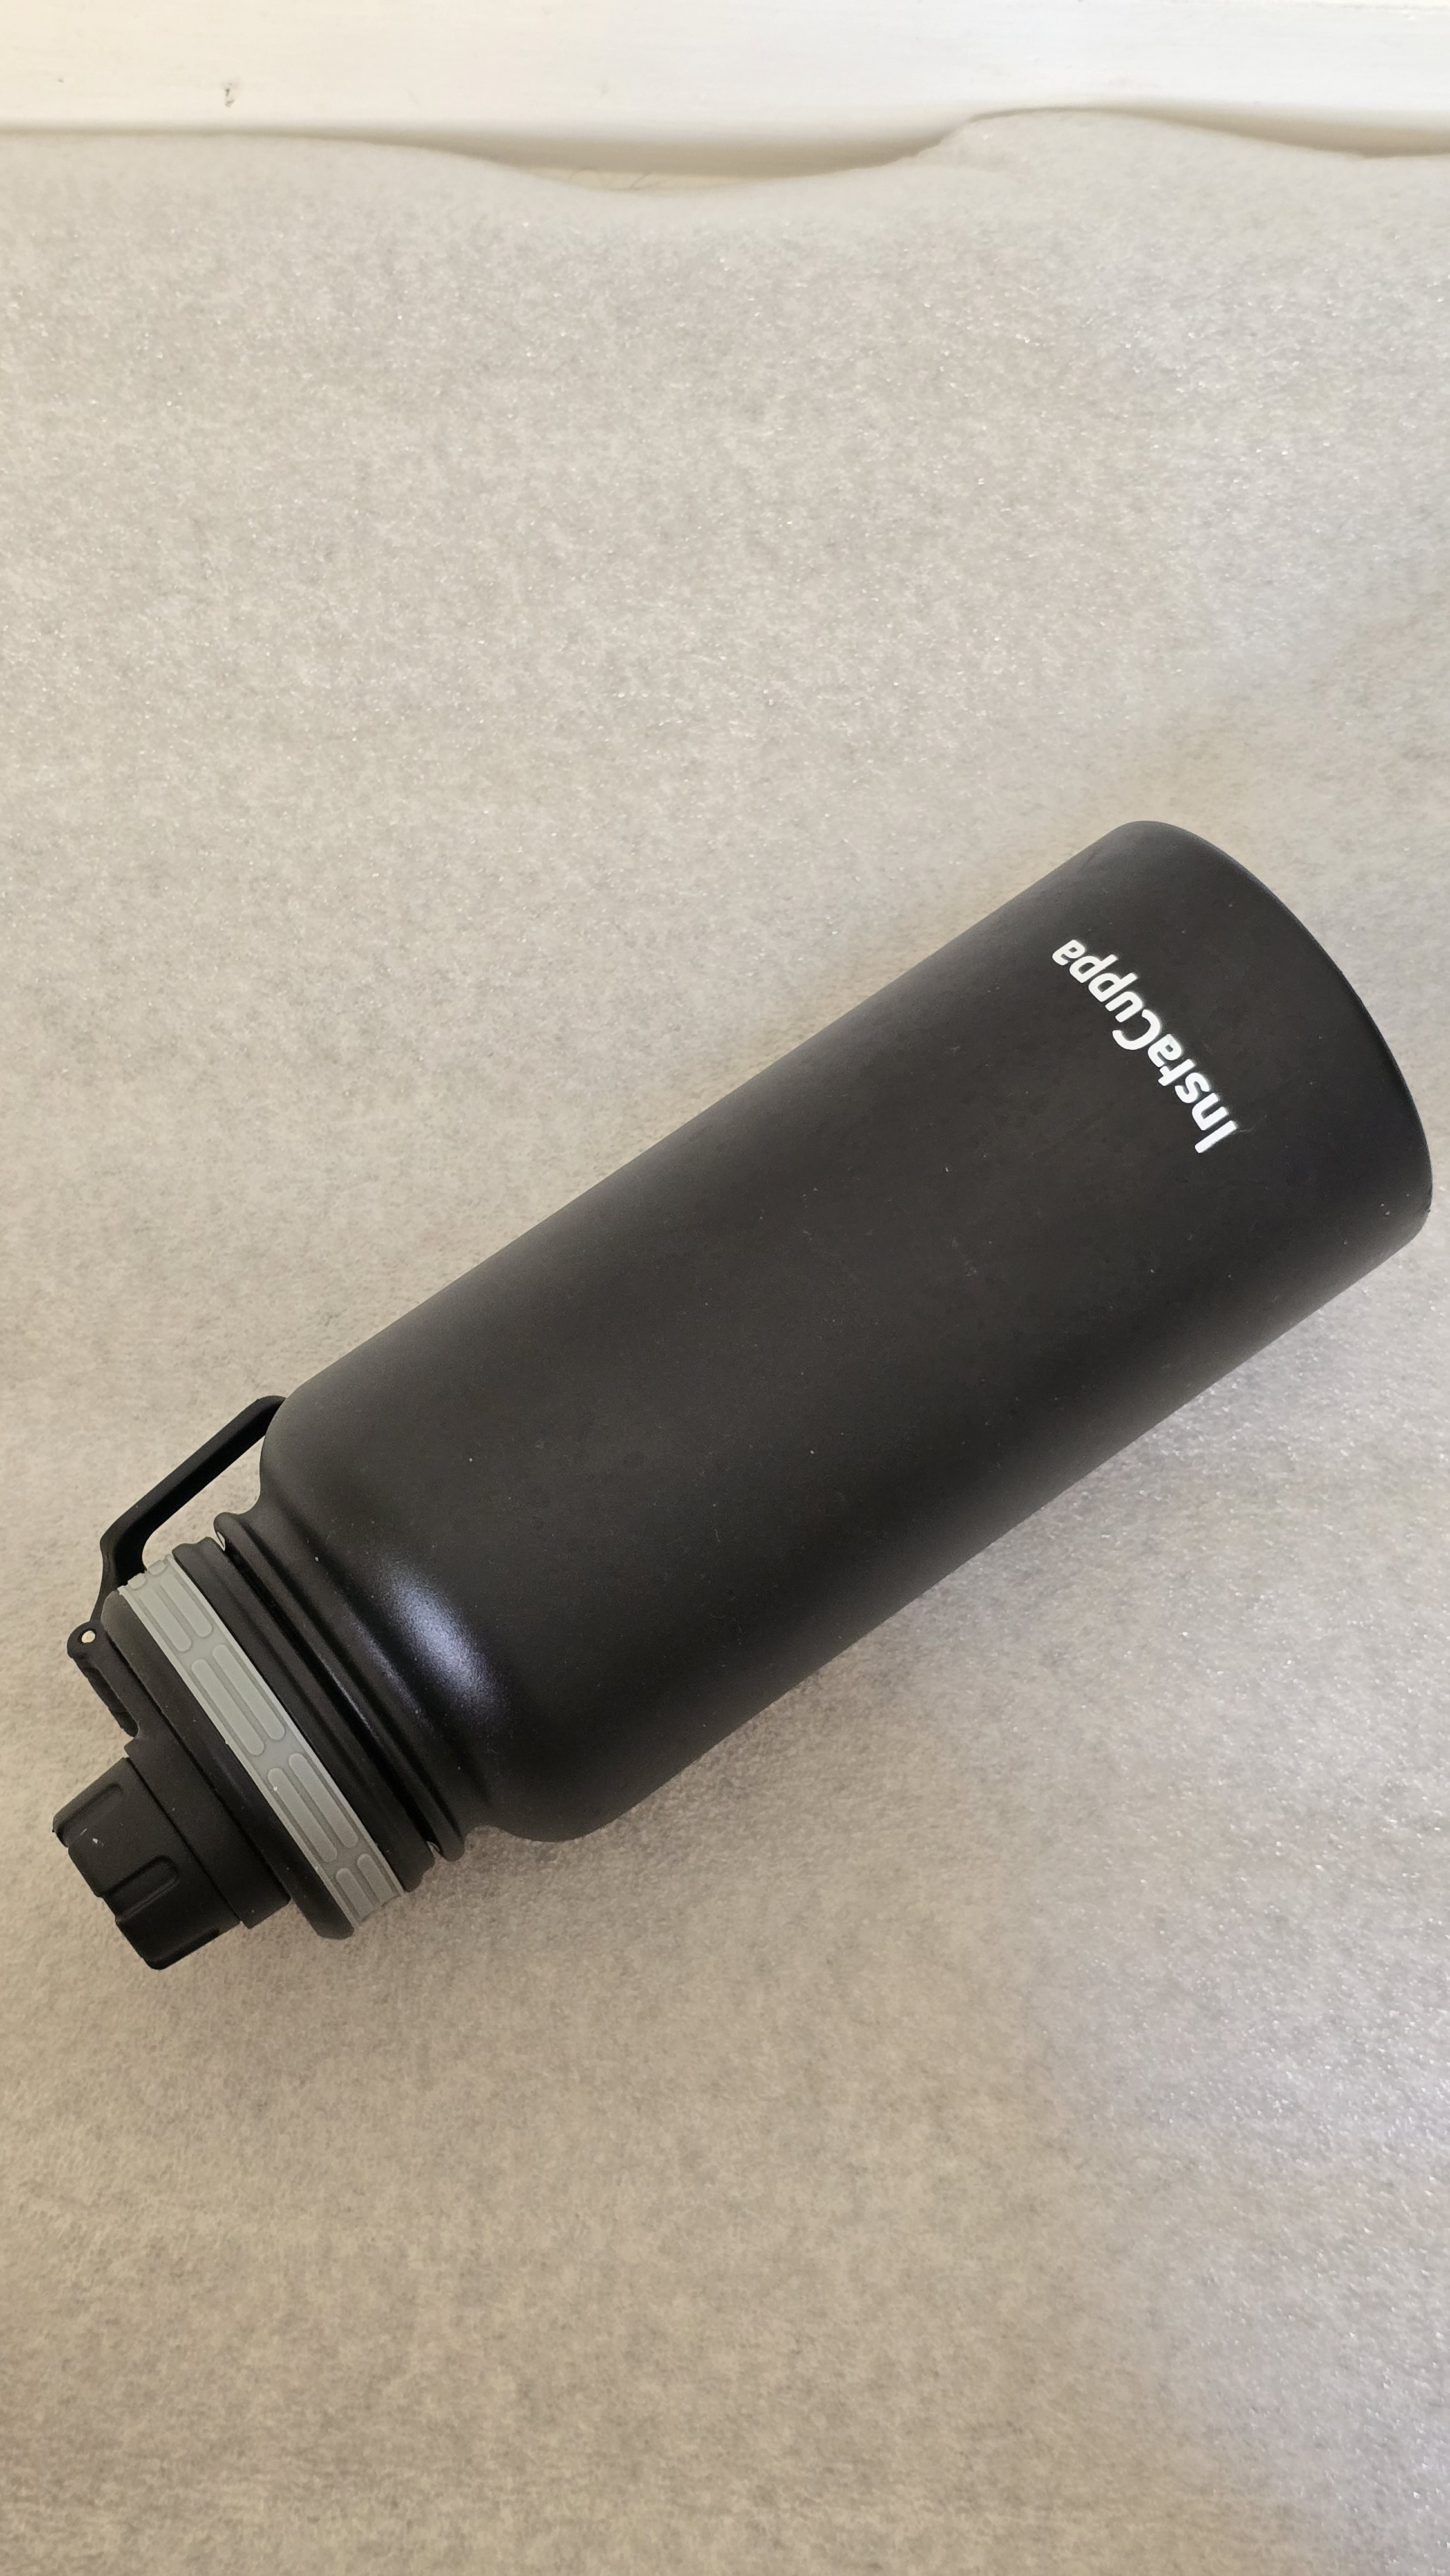bottle: (55, 750, 1443, 2056)
